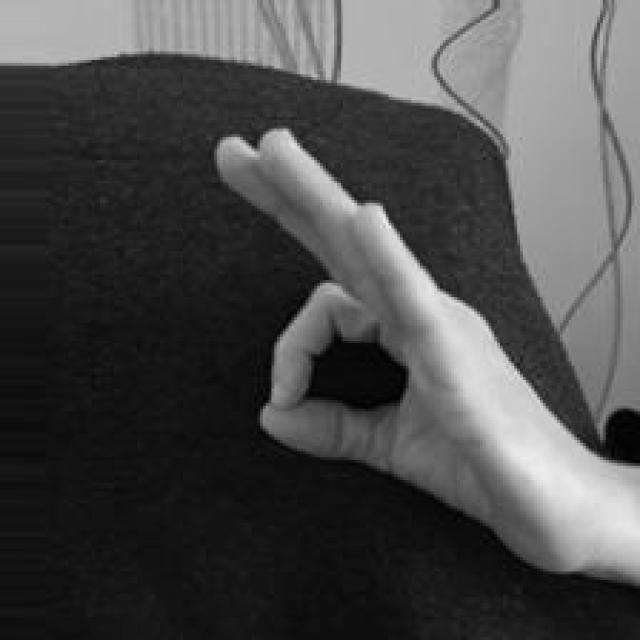O: (205, 125, 639, 585)
